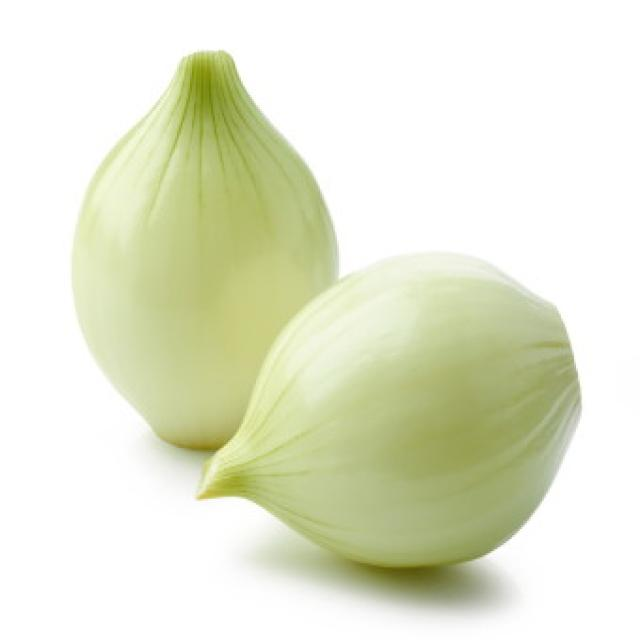onion: (193, 242, 594, 593), (79, 43, 284, 429)
